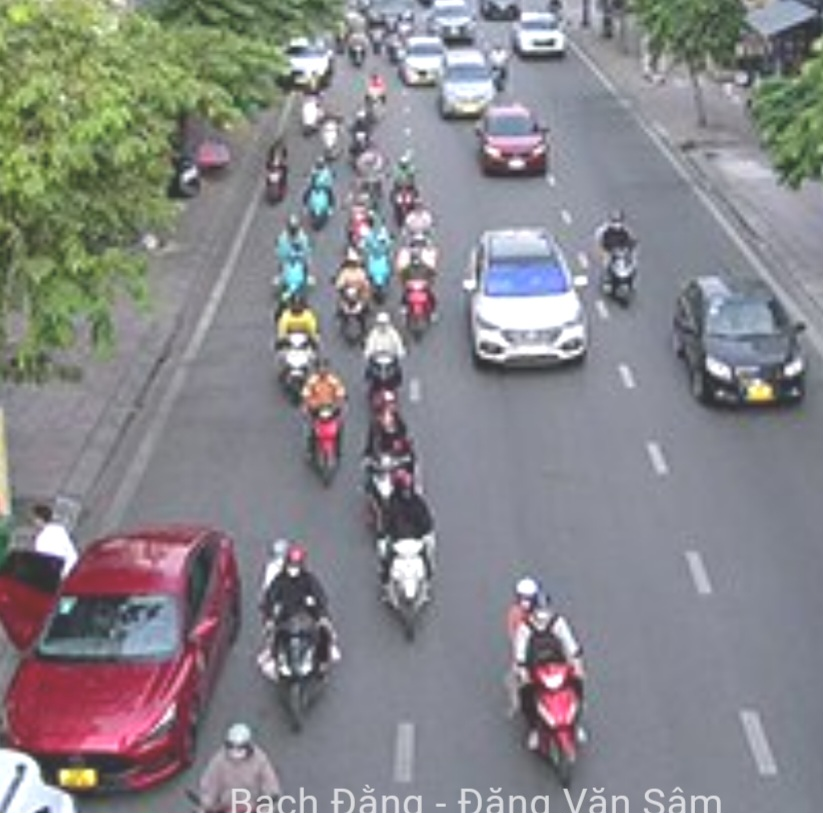car: (11, 505, 239, 784), (665, 273, 810, 411), (466, 224, 589, 374), (480, 108, 550, 179), (442, 51, 495, 120), (516, 10, 571, 59), (399, 39, 447, 86)
